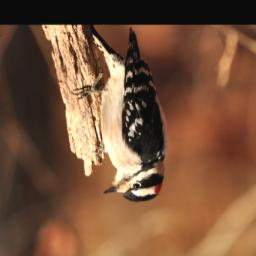Woodpecker: (70, 28, 168, 207)
